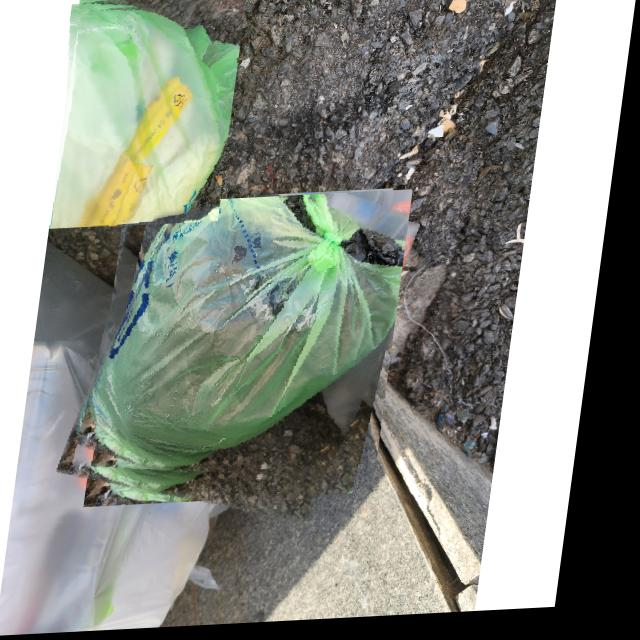general_trashbag: (97, 199, 410, 476), (67, 9, 241, 229), (401, 246, 412, 257)
